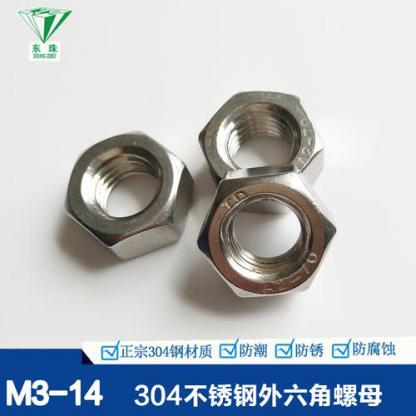FOD: (192, 161, 342, 306), (58, 131, 192, 261), (195, 86, 326, 212)
